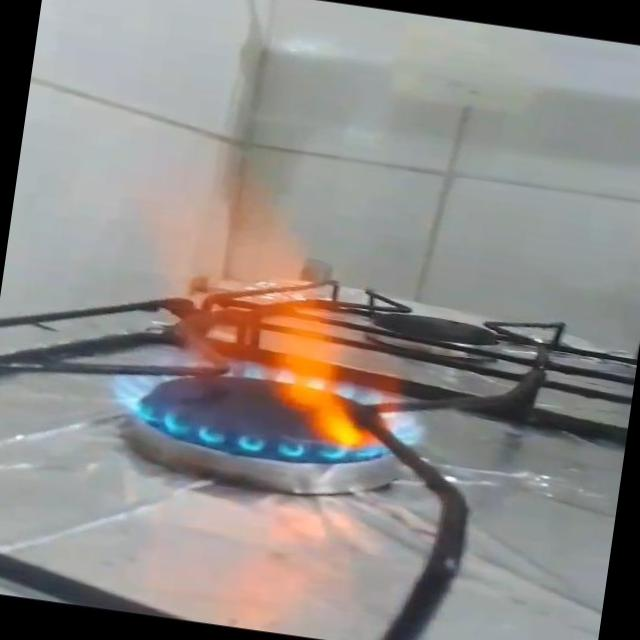Fire: (93, 130, 464, 483)
